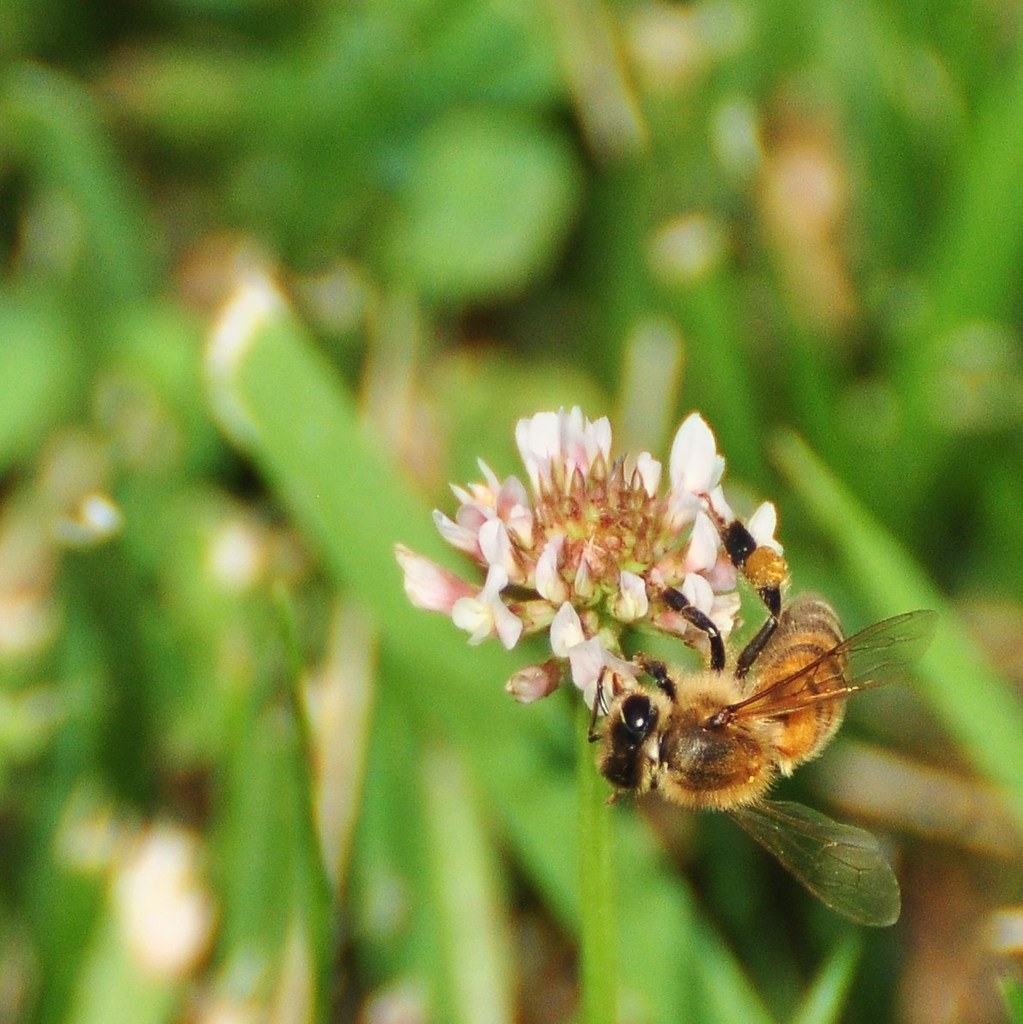bee: (598, 539, 889, 834)
insect: (388, 400, 810, 724)
